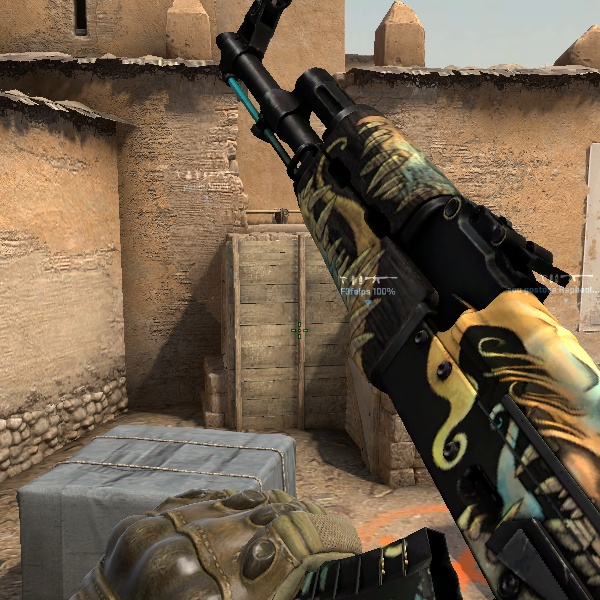ct_body: (116, 19, 594, 600)
t_body: (116, 19, 594, 600)
